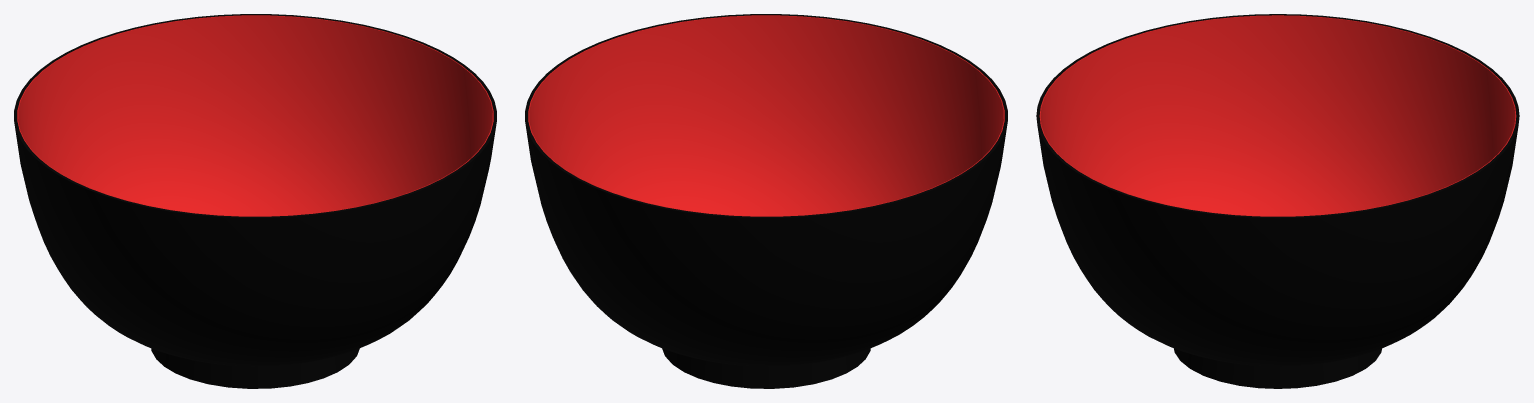
3 views of the same model, side by side, from view 1: azimuth 30°, elevation 25°; view 2: azimuth 150°, elevation 25°; view 3: azimuth 270°, elevation 25° (orthographic).
Parts seen in each view (by area): view 1: Body; view 2: Body; view 3: Body.
Part boxes in pixels (bbox=[...]): Body: bbox=[14, 14, 496, 388]; Body: bbox=[525, 14, 1007, 388]; Body: bbox=[1036, 14, 1519, 388].
Size of the model in its own units: 0.115 by 0.06 by 0.115.
